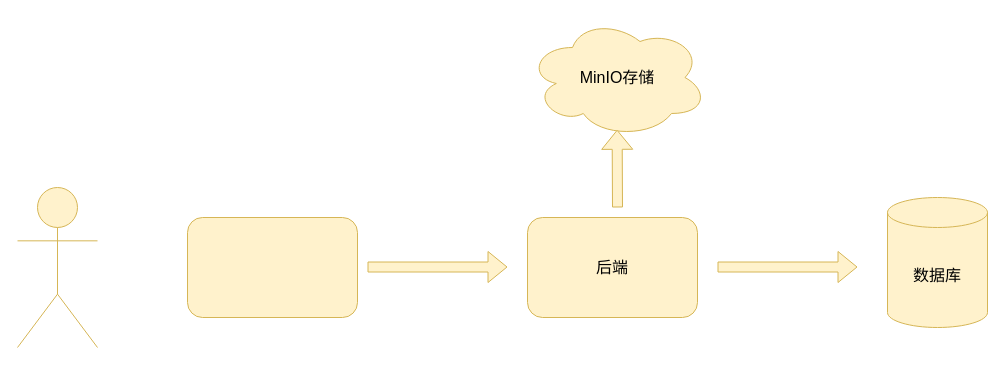
The diagram is 1005 pixels wide and 391 high, and some of its shapes have lost their labels. The centre of each missing label's shape, as x and y in pixels:
Actor: the point at 57,267
前端: the point at 272,267
